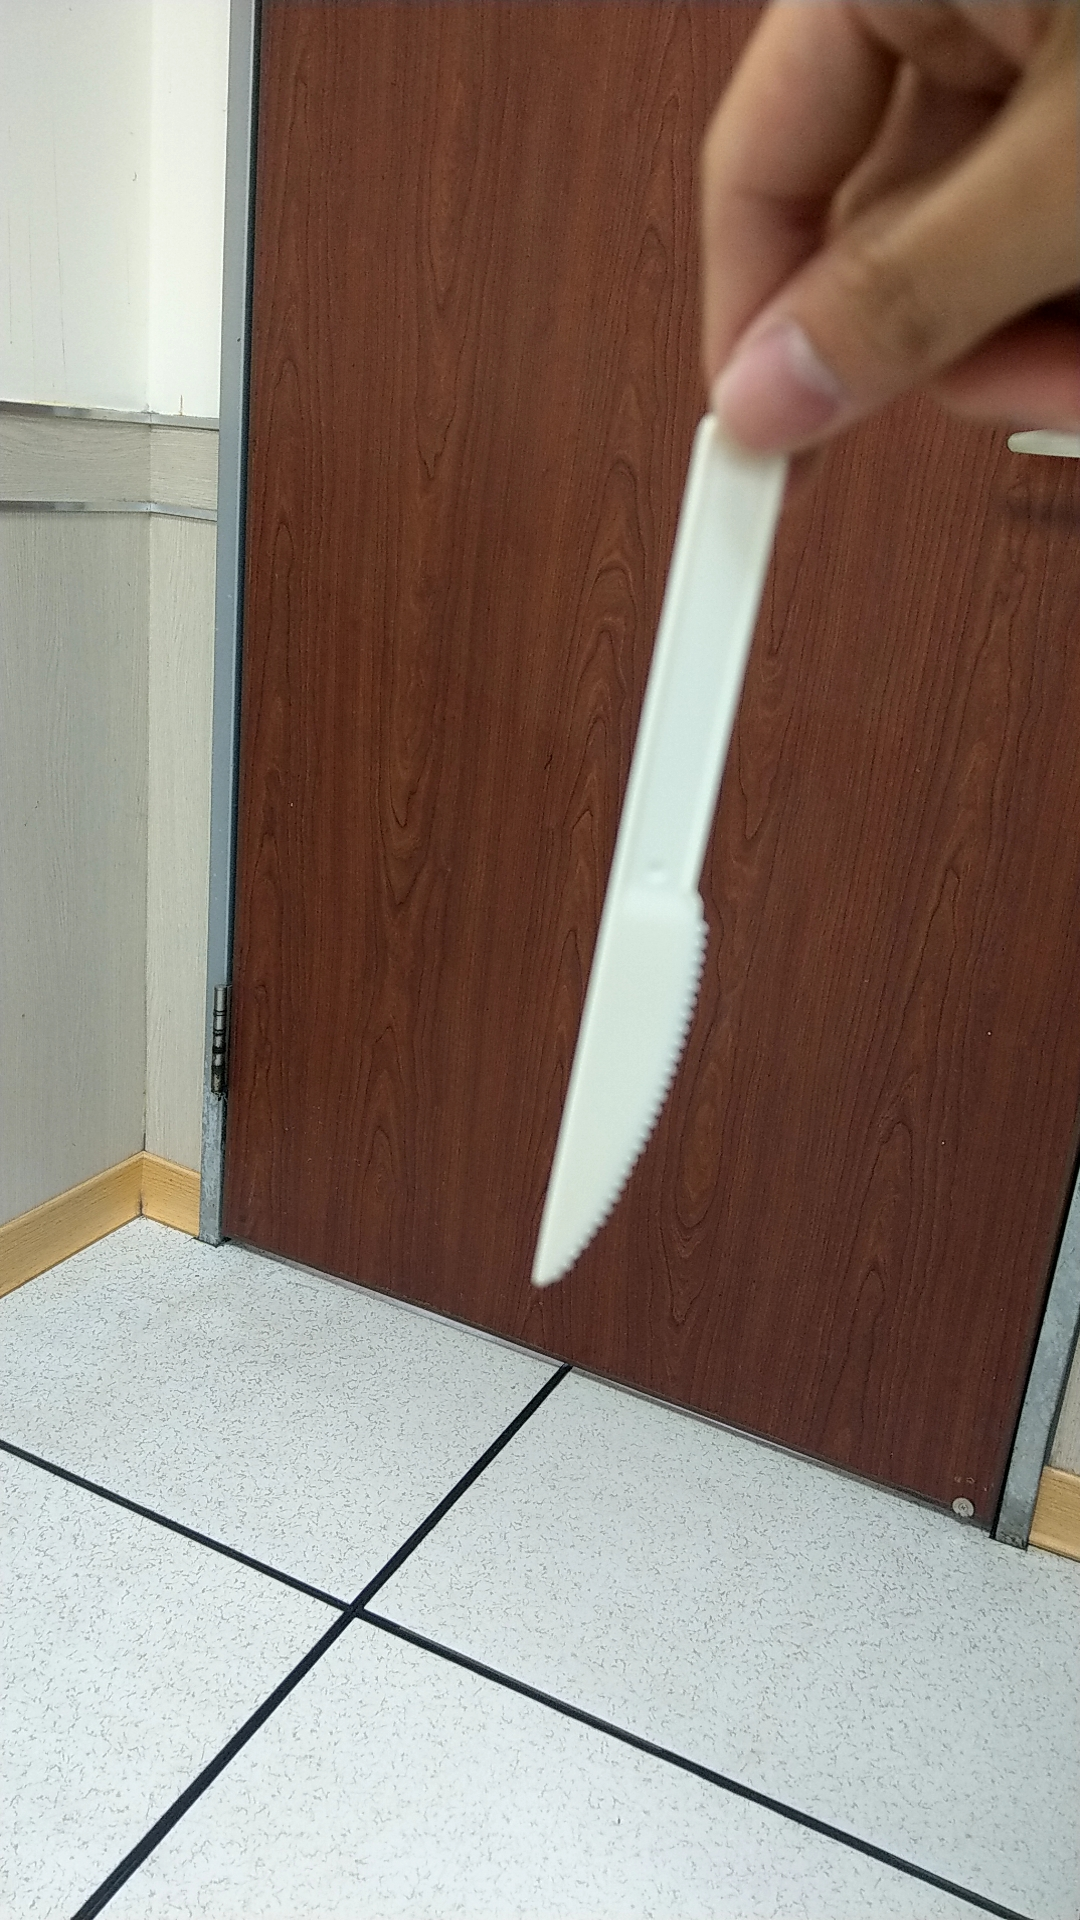knife: (518, 425, 800, 1342)
